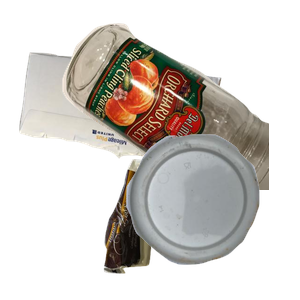glass: (60, 21, 300, 201)
paper: (17, 50, 231, 230)
plastic: (124, 132, 300, 300)
trash: (101, 157, 270, 300)
